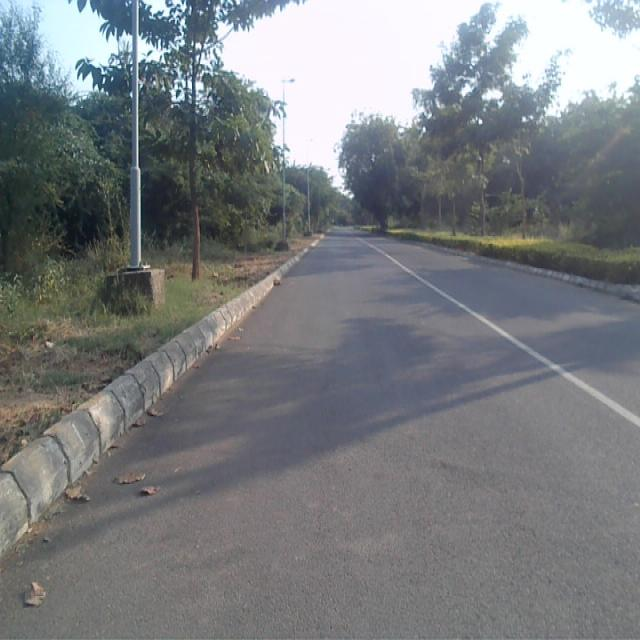lane: (0, 228, 640, 640)
